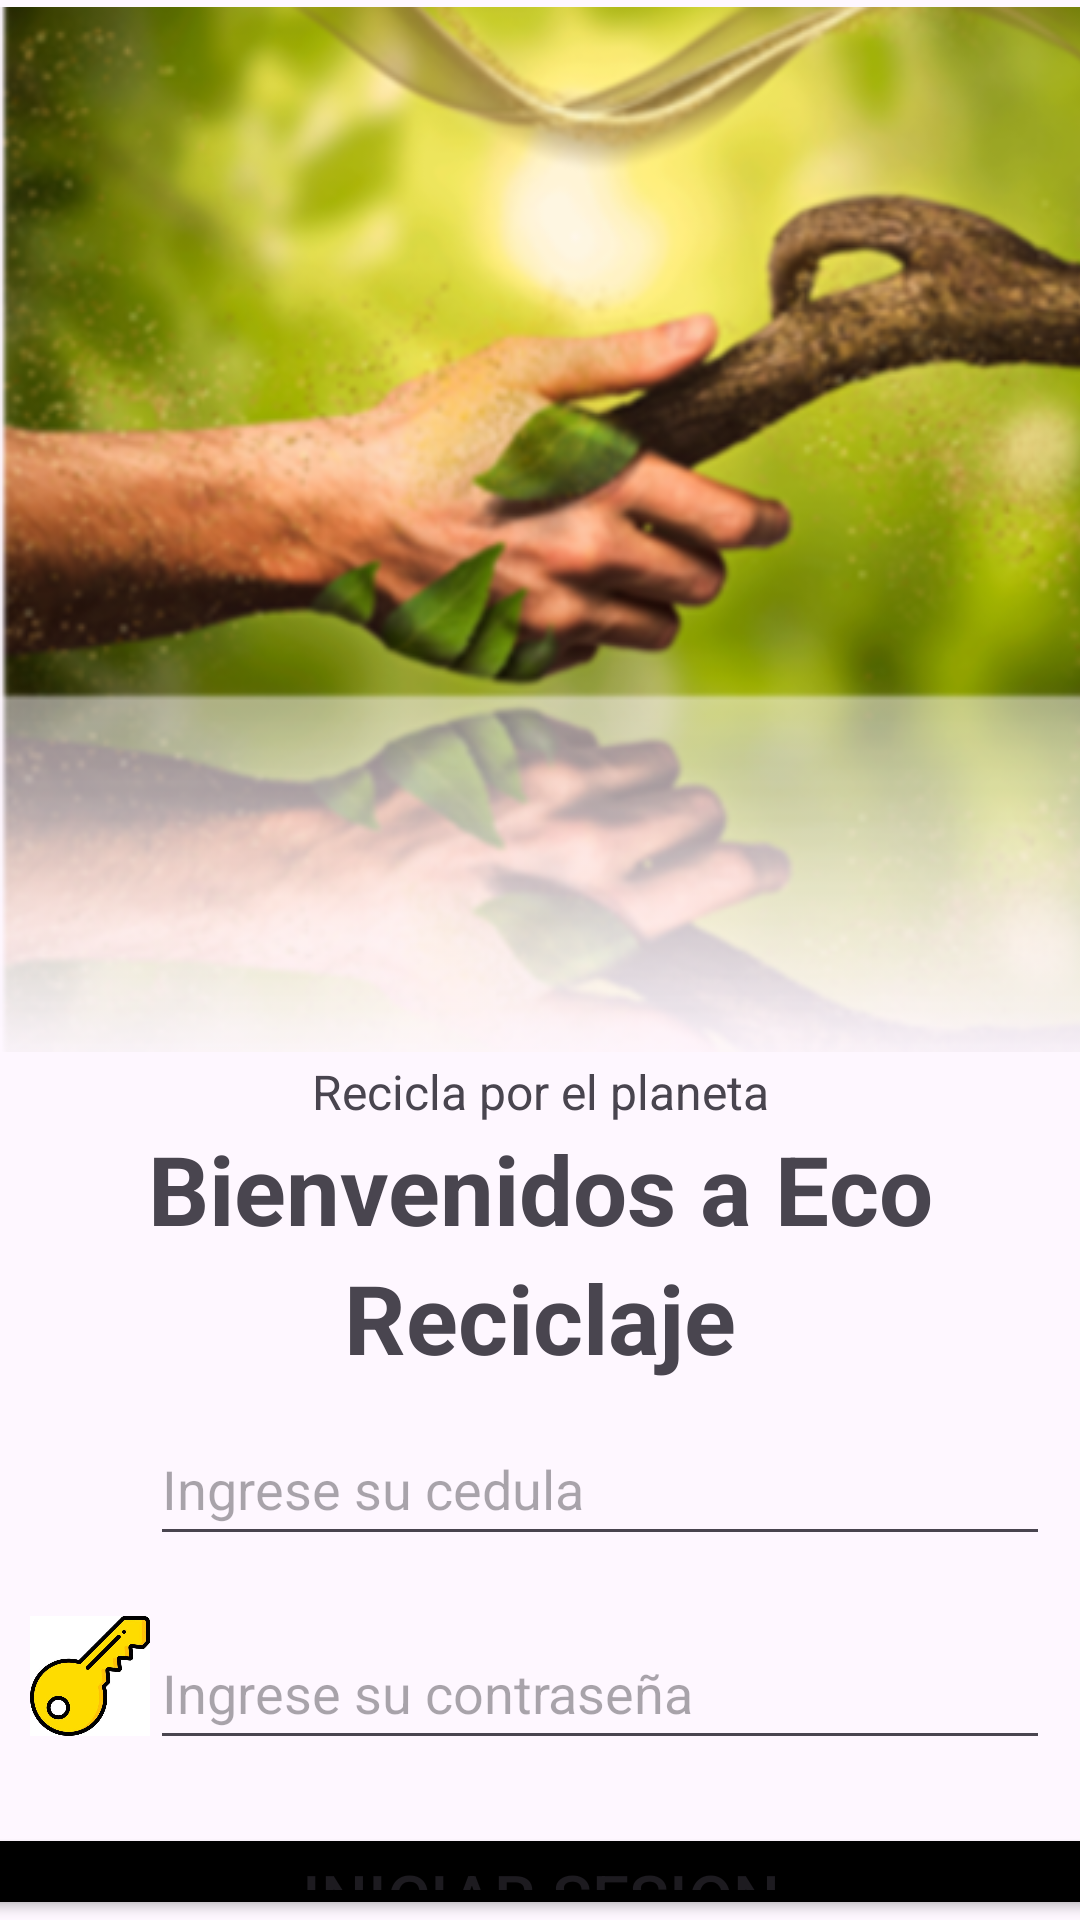

Locate icon controls on the screen. Image size 1080 × 1920, boxes as (x1, y1, x2, y2).
iconollave: (30, 1616, 150, 1736)
